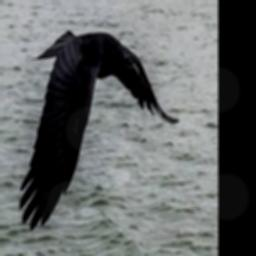Crow: (19, 28, 179, 229)
